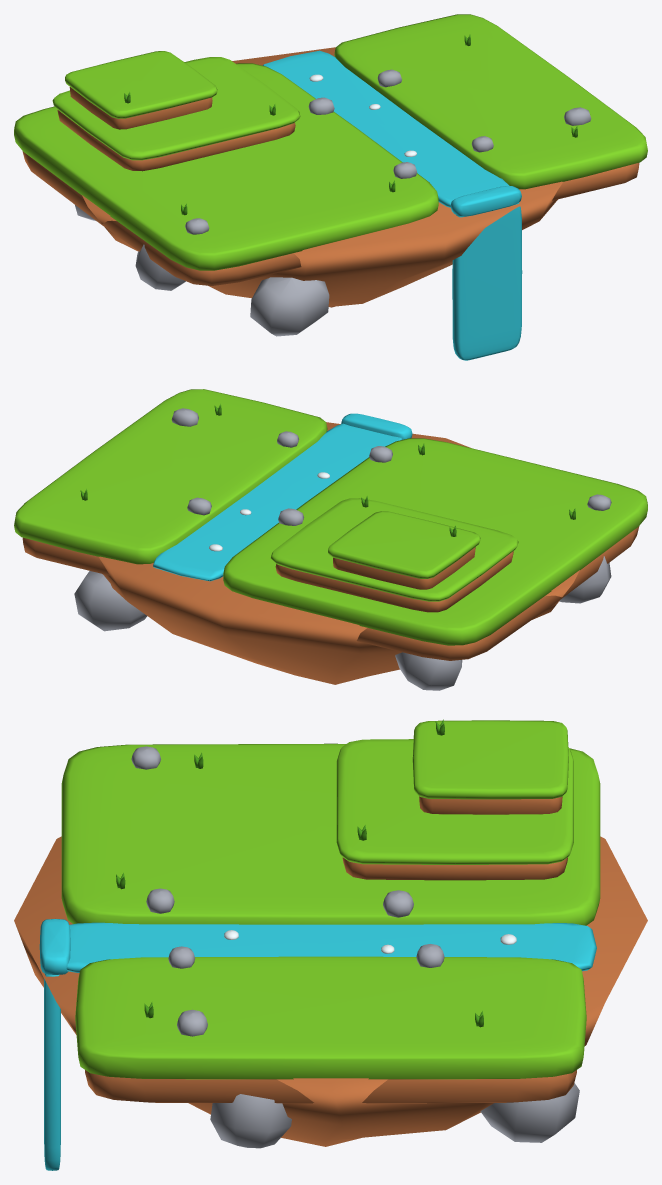
Rendered from floating_island.glb.
3 renders of one model, top to bottom at view 1: azimuth 30°, elevation 25°; view 2: azimuth 150°, elevation 25°; view 3: azimuth 270°, elevation 25°, orthographic. The views are drawn at different scales.
Parts seen in each view (by area): view 1: Grass_Left, Grass_Right, Island_Base, Terrace_Step1, Waterfall, Water_Stream, Terrace_Step2, Cliff_Rocks, Rocks; view 2: Grass_Left, Grass_Right, Island_Base, Terrace_Step1, Water_Stream, Terrace_Step2, Cliff_Rocks, Rocks, Waterfall; view 3: Grass_Left, Grass_Right, Island_Base, Terrace_Step1, Water_Stream, Terrace_Step2, Cliff_Rocks, Waterfall, Rocks, Grass_Tufts.
Boxes of the visible parts, <box> form: Grass_Left: <box>14,63,438,270</box>; Grass_Right: <box>334,14,647,189</box>; Island_Base: <box>22,47,639,307</box>; Terrace_Step1: <box>52,57,300,171</box>; Waterfall: <box>450,186,522,360</box>; Water_Stream: <box>263,50,509,207</box>; Terrace_Step2: <box>65,51,217,129</box>; Cliff_Rocks: <box>75,205,329,336</box>; Rocks: <box>185,69,591,234</box>; Grass_Left: <box>223,438,647,645</box>; Grass_Right: <box>14,389,327,564</box>; Island_Base: <box>22,422,639,684</box>; Terrace_Step1: <box>271,498,518,612</box>; Water_Stream: <box>153,423,402,581</box>; Terrace_Step2: <box>328,511,480,589</box>; Cliff_Rocks: <box>74,556,611,690</box>; Rocks: <box>171,408,611,525</box>; Waterfall: <box>341,413,412,439</box>; Grass_Left: <box>61,743,600,925</box>; Grass_Right: <box>75,956,586,1079</box>; Island_Base: <box>14,836,647,1146</box>; Terrace_Step1: <box>336,739,573,880</box>; Water_Stream: <box>66,922,596,972</box>; Terrace_Step2: <box>412,720,568,814</box>; Cliff_Rocks: <box>210,1083,579,1148</box>; Waterfall: <box>39,919,70,1170</box>; Rocks: <box>131,746,444,1036</box>; Grass_Tufts: <box>116,719,483,1027</box>.
Size of the model in its own units: 10.86 by 4.8 by 8.92.
